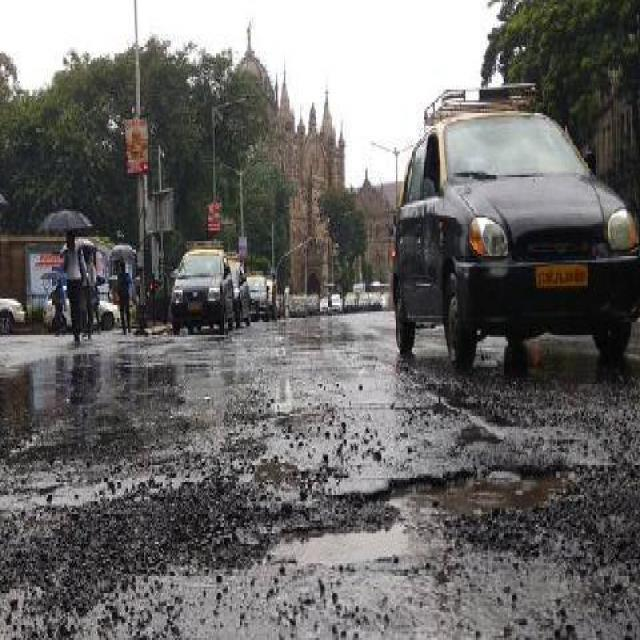Pothole: (373, 462, 573, 522), (262, 509, 417, 571)
